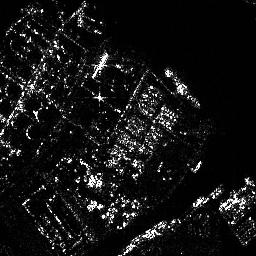ship: (164, 67, 201, 109), (127, 217, 170, 246), (190, 183, 223, 209)
